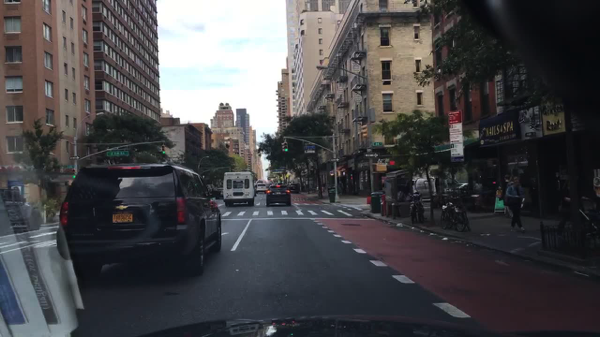bike: (439, 203, 463, 231), (410, 193, 425, 224), (458, 203, 470, 231)
car: (55, 162, 222, 283), (222, 172, 255, 208), (265, 183, 291, 206), (443, 183, 473, 196), (288, 183, 300, 193), (214, 188, 224, 198), (256, 184, 267, 193)
person: (505, 176, 526, 233), (499, 174, 512, 218)
traffic light: (161, 145, 166, 155), (284, 142, 288, 152), (281, 142, 284, 152), (335, 171, 340, 177)
traffic sign: (364, 148, 379, 158), (303, 144, 316, 153), (106, 151, 129, 156), (271, 170, 285, 175), (68, 156, 81, 160), (372, 141, 382, 146), (329, 158, 339, 162), (67, 164, 75, 169)
truck: (411, 176, 458, 203)
